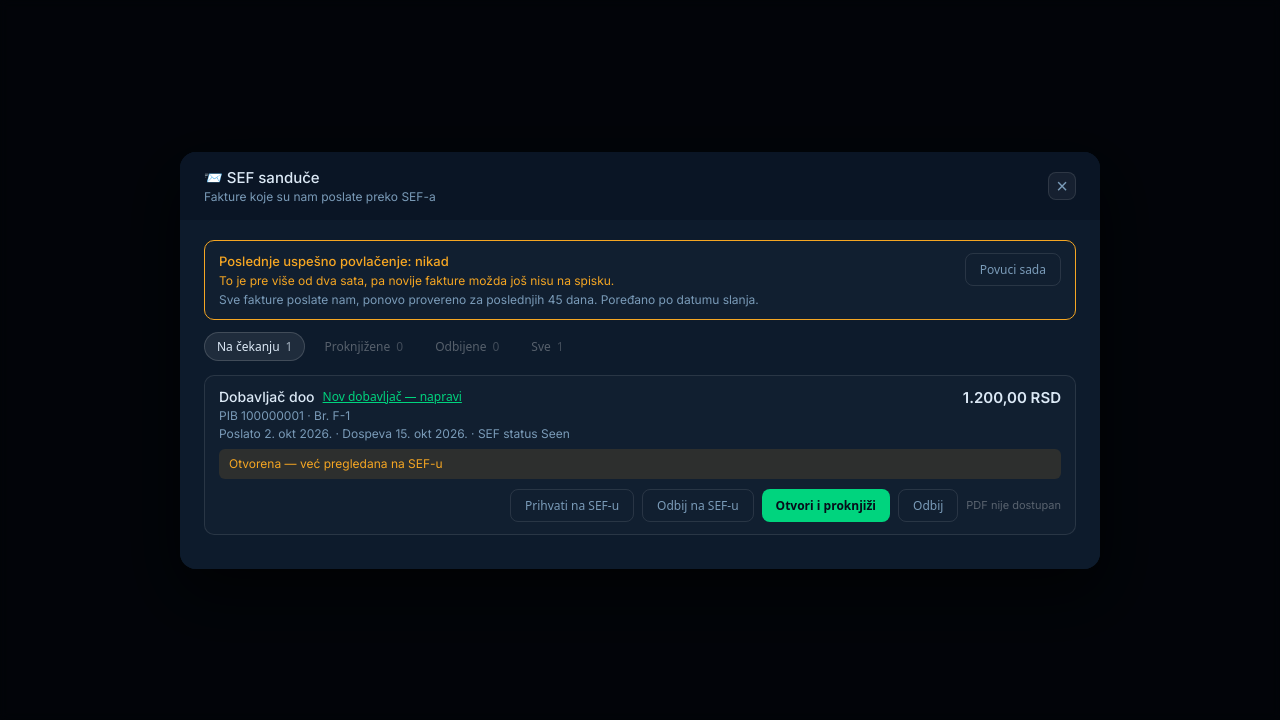
it: deciding on SEF from the inbox › accepts, then shows SEF’s status and who decided
Check: the text "Dobavljač doo" is shown, box [219,388,315,404]
Click the button "Prihvati na SEF-u" at (572, 505), box [510,488,634,522]
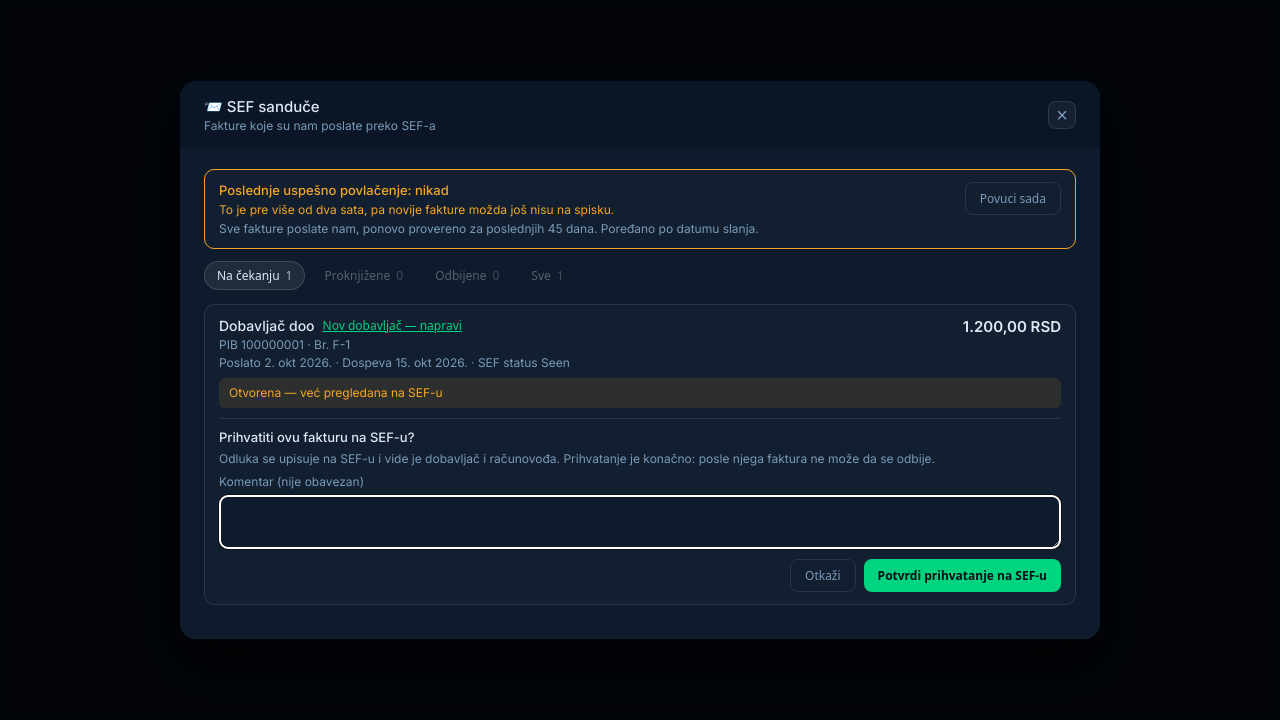
Click the button "Potvrdi prihvatanje na SEF-u" at (962, 576), box [864,559,1061,592]
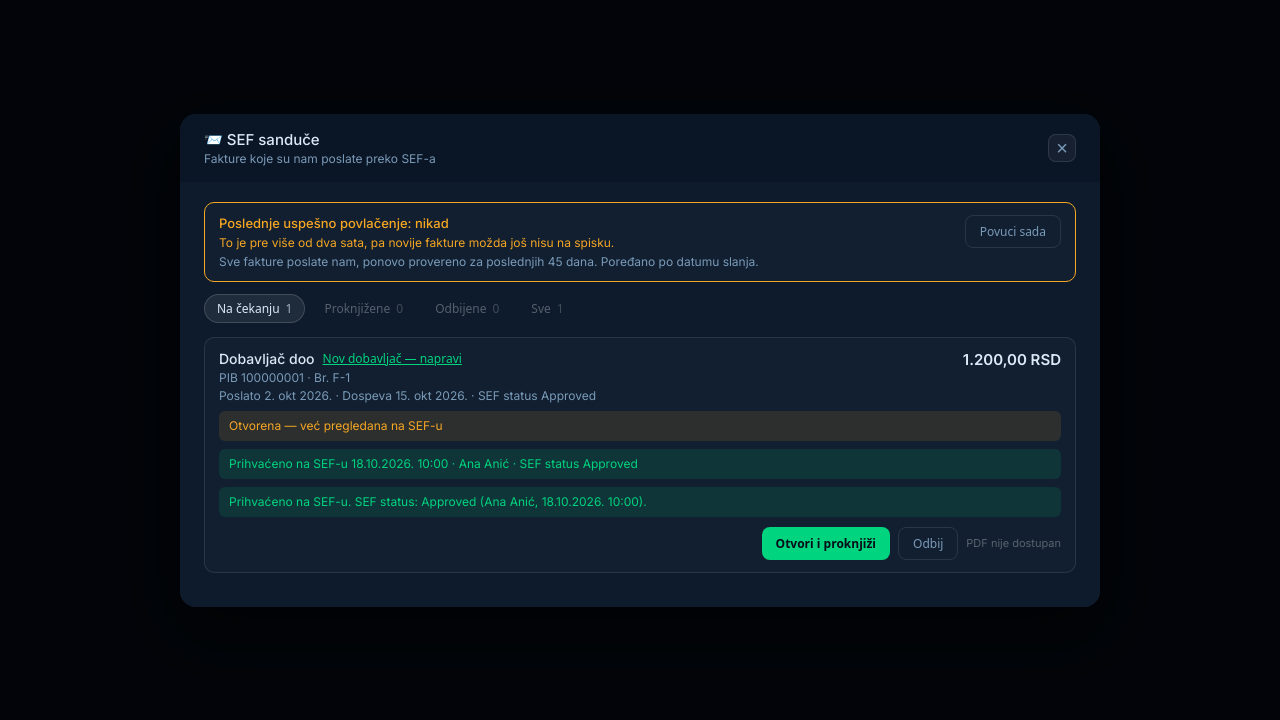
Check: the button "Odbij na SEF-u" is not shown
Check: the message "Prihvaćeno na SEF-u. SEF status: Approved (Ana Anić, 18.10.2026. 10:00)." is shown, box [219,486,1061,516]
Check: the message shows "SEF status: Approved", box [229,494,647,508]
